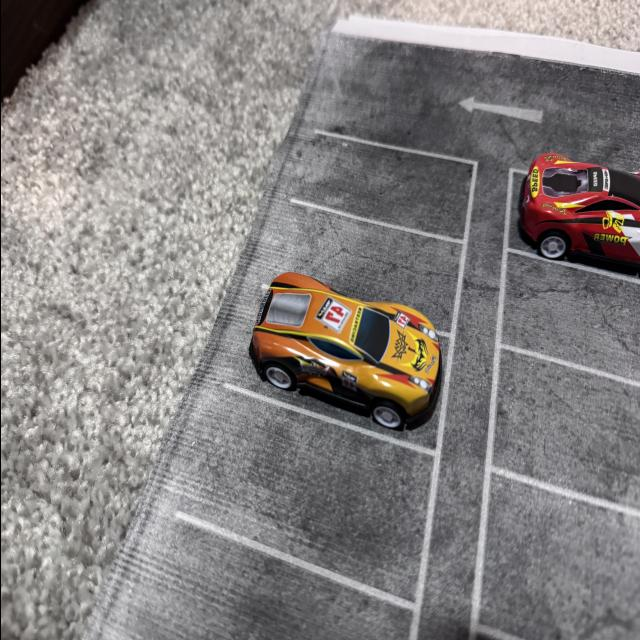car: (235, 217, 512, 519), (472, 140, 640, 378)
